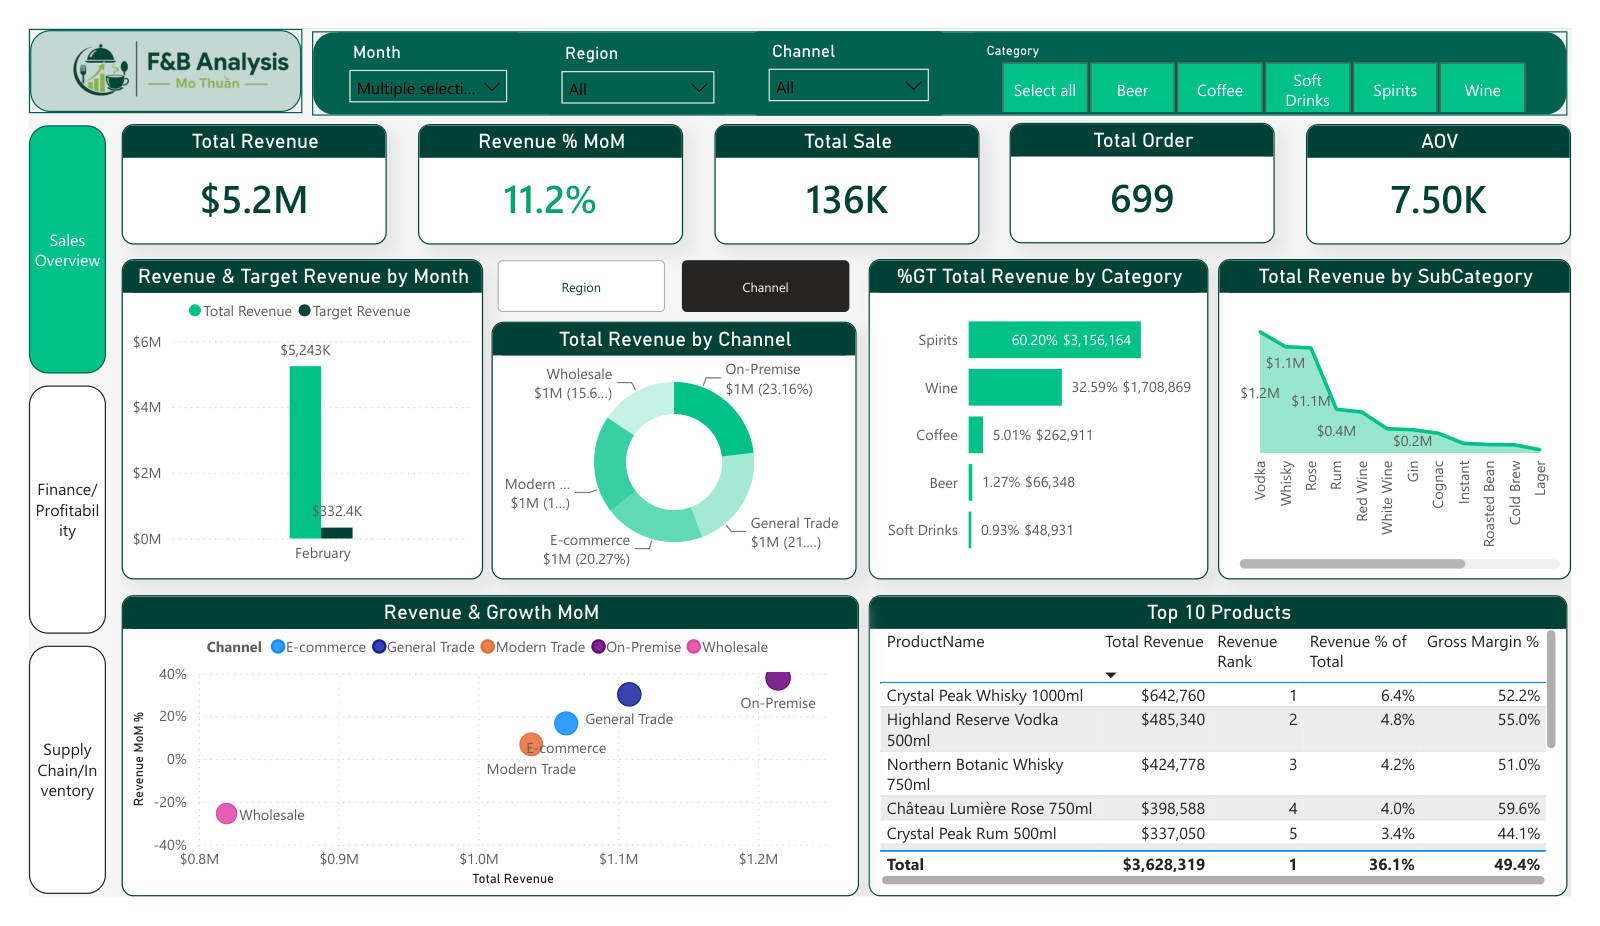

Layout of this report page (visuals, bound fields, positions):
{"tool":"powerbi","page":{"name":"Sales Overview","canvas":[1280,720],"ordinal":0},"visuals":[{"type":"shape","box":[0,0,227.1,70],"z":0},{"type":"cardVisual","title":"Total Revenue","fields":{"Data":["_Measures.Total Revenue"]},"box":[77.1,78.6,220,100],"z":1000},{"type":"cardVisual","title":"Total Order","fields":{"Data":["_Measures.Total Orders"]},"box":[814.3,78.1,220,100],"z":2000},{"type":"cardVisual","title":"Total Sale","fields":{"Data":["_Measures.Sales Quantity"]},"box":[568.6,78.9,220,100],"z":3000},{"type":"cardVisual","title":"AOV","fields":{"Data":["_Measures.AOV"]},"box":[1060,78.6,220,100],"z":4000},{"type":"barChart","fields":{"Category":["DIM_Products.Category"],"Y":["_Measures.Total Revenue"]},"box":[697.1,191.4,282,265.7],"z":5000},{"type":"cardVisual","title":"Revenue % MoM","fields":{"Data":["_Measures.Revenue MoM %"]},"box":[322.9,78.8,220,100],"z":6000},{"type":"clusteredColumnChart","title":"Revenue & Target Revenue by Month","fields":{"Category":["DIM_Date.Month Name"],"Y":["_Measures.Total Revenue","_Measures.Target Revenue"]},"box":[77.1,191.4,300,265.7],"z":7000},{"type":"stackedAreaChart","fields":{"Category":["DIM_Products.SubCategory"],"Y":["_Measures.Total Revenue"]},"box":[987.1,191.4,292.9,265.7],"z":8000},{"type":"donutChart","fields":{"Category":["FACT_Sales.Channel"],"Y":["_Measures.Total Revenue"]},"box":[384.3,242.9,302.9,214.3],"z":9000},{"type":"advancedSlicerVisual","fields":{"Values":["Dim Selector.Dim Selector"]},"box":[384.3,187.1,302.9,52.9],"z":10000},{"type":"tableEx","title":"Top 10 Products","fields":{"Values":["DIM_Products.ProductName","_Measures.Total Revenue","_Measures.Revenue Rank","_Measures.Revenue % of Total","_Measures.Gross Margin %"]},"box":[697.1,470,580,250],"z":11000},{"type":"scatterChart","title":"Revenue & Growth MoM","fields":{"Series":["FACT_Sales.Channel"],"Size":["_Measures.Total Revenue"],"X":["_Measures.Total Revenue"],"Y":["_Measures.Revenue MoM %"]},"box":[77.1,470,611.4,250],"z":12000},{"type":"pageNavigator","box":[0,80,64,640],"z":13000},{"type":"image","box":[0,0,251.5,66.9],"z":14000},{"type":"shape","box":[235,1.7,1041.7,70],"z":15000},{"type":"slicer","fields":{"Values":["DIM_Date.Month Name"]},"box":[253.3,3.3,156.7,66.7],"z":16000},{"type":"slicer","fields":{"Values":["FACT_Sales.Region"]},"box":[428.6,3.6,153.8,66.9],"z":17000},{"type":"slicer","fields":{"Values":["FACT_Sales.Channel"]},"box":[601.1,2.1,158.6,70],"z":18000},{"type":"slicer","fields":{"Values":["DIM_Products.Category"]},"box":[778.3,3.3,491.7,66.7],"z":19000}]}

Visuals, with their boxes in screenshot pixels (x1, y1, x2, y2), scaled from the page's 1280x720 canvas onto the 1600x926 screenshot:
shape: 0/0/284/90
"Total Revenue" cardVisual: 96/101/371/230
"Total Order" cardVisual: 1018/100/1293/229
"Total Sale" cardVisual: 711/101/986/230
"AOV" cardVisual: 1325/101/1599/230
barChart - DIM_Products.Category x _Measures.Total Revenue: 871/246/1224/588
"Revenue % MoM" cardVisual: 404/101/679/230
"Revenue & Target Revenue by Month" clusteredColumnChart: 96/246/471/588
stackedAreaChart - DIM_Products.SubCategory x _Measures.Total Revenue: 1234/246/1599/588
donutChart - FACT_Sales.Channel x _Measures.Total Revenue: 480/312/859/588
advancedSlicerVisual - Dim Selector.Dim Selector: 480/241/859/309
"Top 10 Products" tableEx: 871/604/1596/925
"Revenue & Growth MoM" scatterChart: 96/604/861/925
pageNavigator: 0/103/80/925
image: 0/0/314/86
shape: 294/2/1596/92
slicer - DIM_Date.Month Name: 317/4/512/90
slicer - FACT_Sales.Region: 536/5/728/91
slicer - FACT_Sales.Channel: 751/3/950/93
slicer - DIM_Products.Category: 973/4/1588/90
